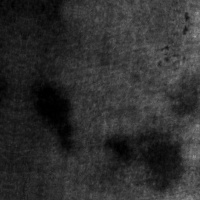patches: (129, 122, 190, 192), (27, 75, 75, 140), (164, 73, 199, 121), (102, 127, 138, 167)
